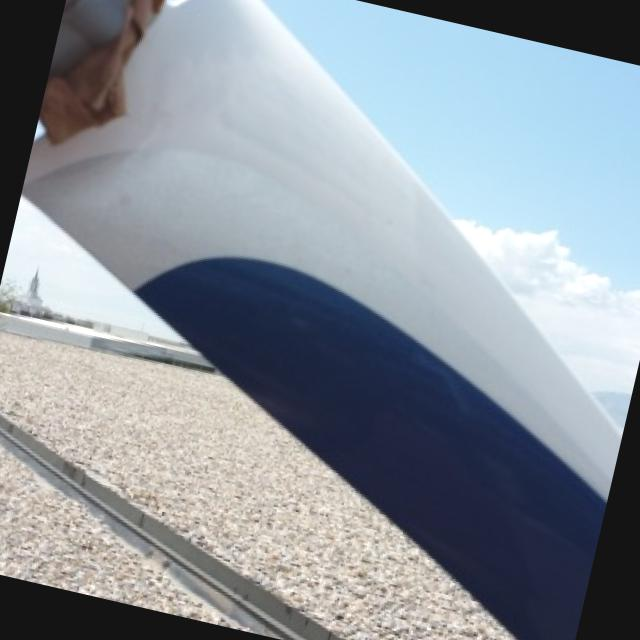healthy: (22, 0, 620, 640)
